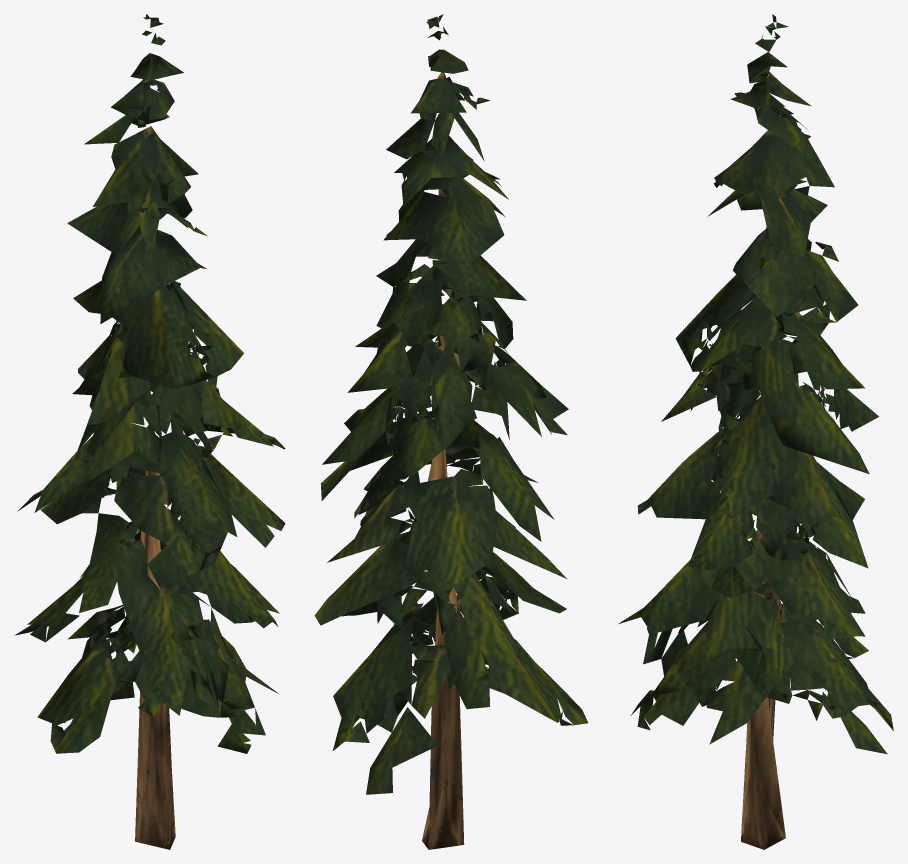
Rendered from spruce.glb.
The picture shows the model from 3 angles, left to right: view 1: azimuth 30°, elevation 25°; view 2: azimuth 150°, elevation 25°; view 3: azimuth 270°, elevation 25°; orthographic projection.
Parts seen in each view (by area): view 1: spruce.raw; view 2: spruce.raw; view 3: spruce.raw.
Part boxes in pixels (x1,y1,x2,y2): spruce.raw: (14,14,285,849); spruce.raw: (314,14,587,849); spruce.raw: (618,14,893,849).
Bounding box in the file's own units: 4.78 × 16 × 4.87.
1 material, 1 textured.
